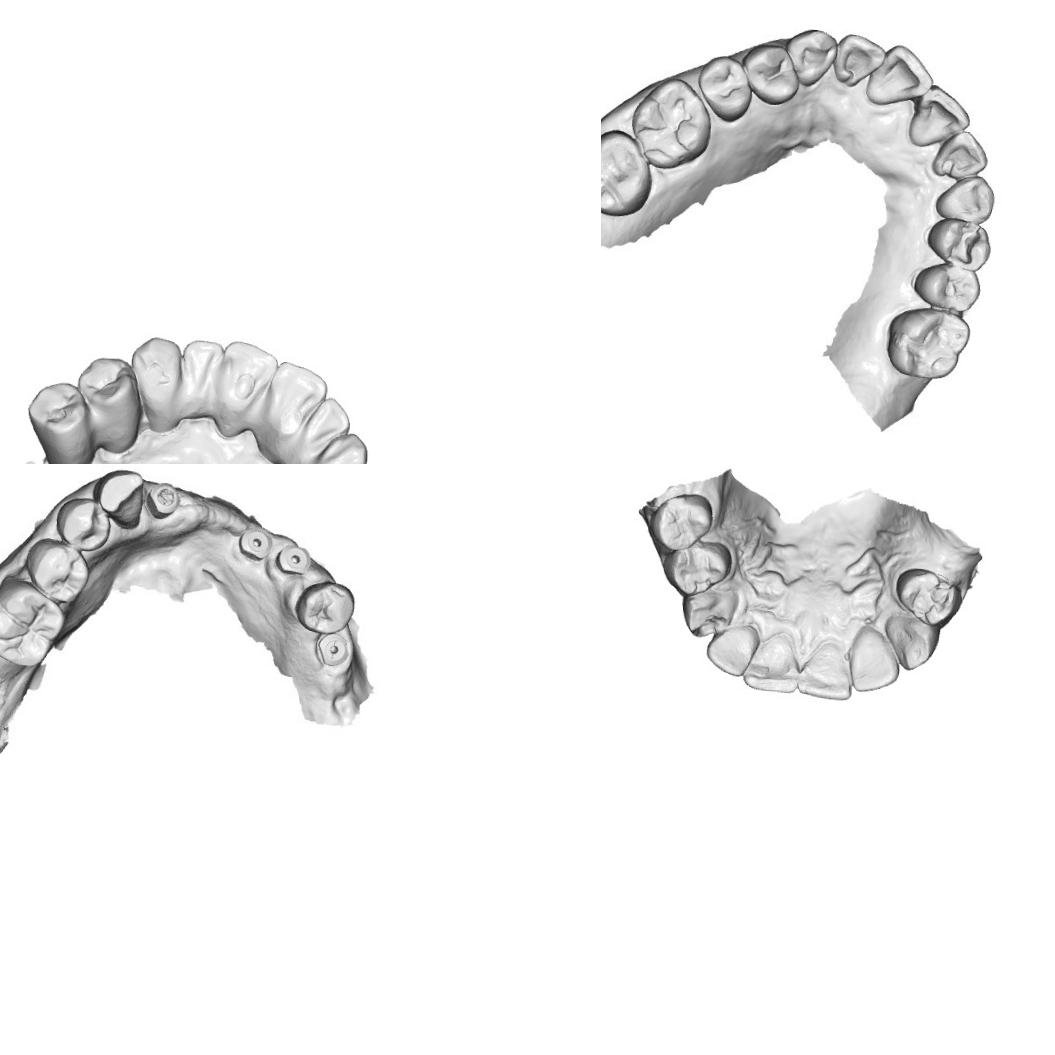canine: (879, 612, 945, 674), (783, 24, 842, 92), (126, 331, 183, 401), (92, 464, 148, 531), (932, 171, 997, 224), (677, 587, 739, 642), (311, 428, 371, 464)
implant: (237, 527, 273, 561), (148, 482, 180, 516), (278, 544, 310, 577)
implant_minus: (313, 628, 352, 667)
incisor: (902, 82, 971, 150), (263, 358, 330, 426), (866, 45, 938, 108), (218, 337, 282, 405), (738, 632, 802, 696), (796, 636, 858, 702), (846, 625, 902, 695), (929, 128, 992, 182), (704, 625, 762, 680), (834, 29, 888, 86), (177, 337, 227, 396), (299, 393, 352, 447)
inlay: (943, 223, 983, 268)
molar: (626, 73, 710, 170), (883, 302, 972, 386), (0, 573, 67, 670), (601, 126, 654, 219)
premolar: (660, 536, 734, 600), (24, 378, 92, 447), (24, 535, 93, 602), (894, 564, 964, 630), (647, 490, 716, 554), (696, 54, 753, 126), (75, 355, 139, 418), (742, 38, 798, 109), (911, 260, 984, 313), (294, 577, 356, 636), (50, 494, 112, 552)
